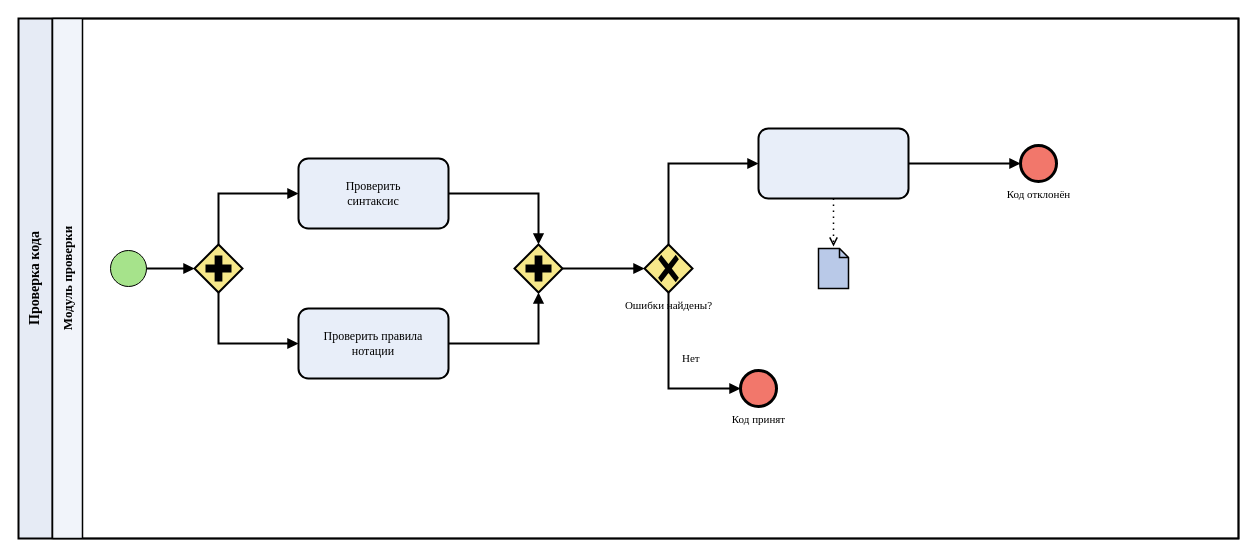
The diagram is 1256 pixels wide and 556 high, and some of its shapes have lost their labels. The box of each missing label's shape, as (x1, y1, x2, y2) in pixels:
Да: (680, 141, 702, 159)
Получен код на проверку: (110, 250, 146, 286)
Список ошибок: (817, 247, 849, 289)
Сформировать список ошибок: (757, 127, 909, 199)
